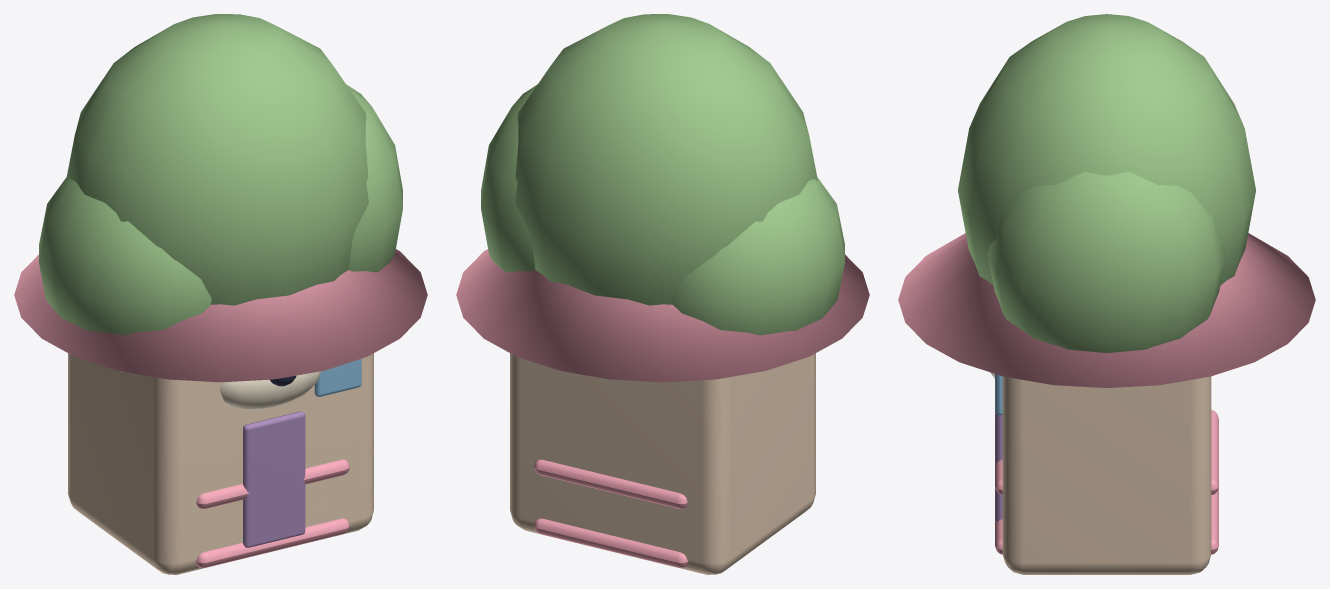
The model's file is toybox.glb.
The picture shows the model from 3 angles, left to right: view 1: azimuth 30°, elevation 25°; view 2: azimuth 150°, elevation 25°; view 3: azimuth 270°, elevation 25°; orthographic projection.
Parts seen in each view (by area): view 1: tree, house, book, bear; view 2: tree, house, book; view 3: tree, house, book.
Boxes of the visible parts, x1=… form: tree: x1=39, y1=14, x2=402, y2=371; house: x1=14, y1=249, x2=427, y2=574; book: x1=195, y1=459, x2=349, y2=567; bear: x1=220, y1=371, x2=320, y2=409; tree: x1=481, y1=14, x2=844, y2=371; house: x1=456, y1=249, x2=869, y2=574; book: x1=534, y1=459, x2=688, y2=567; tree: x1=958, y1=14, x2=1255, y2=352; house: x1=898, y1=233, x2=1315, y2=574; book: x1=995, y1=410, x2=1218, y2=554.
Size of the model in its own units: 1.4 by 1.99 by 1.4.
